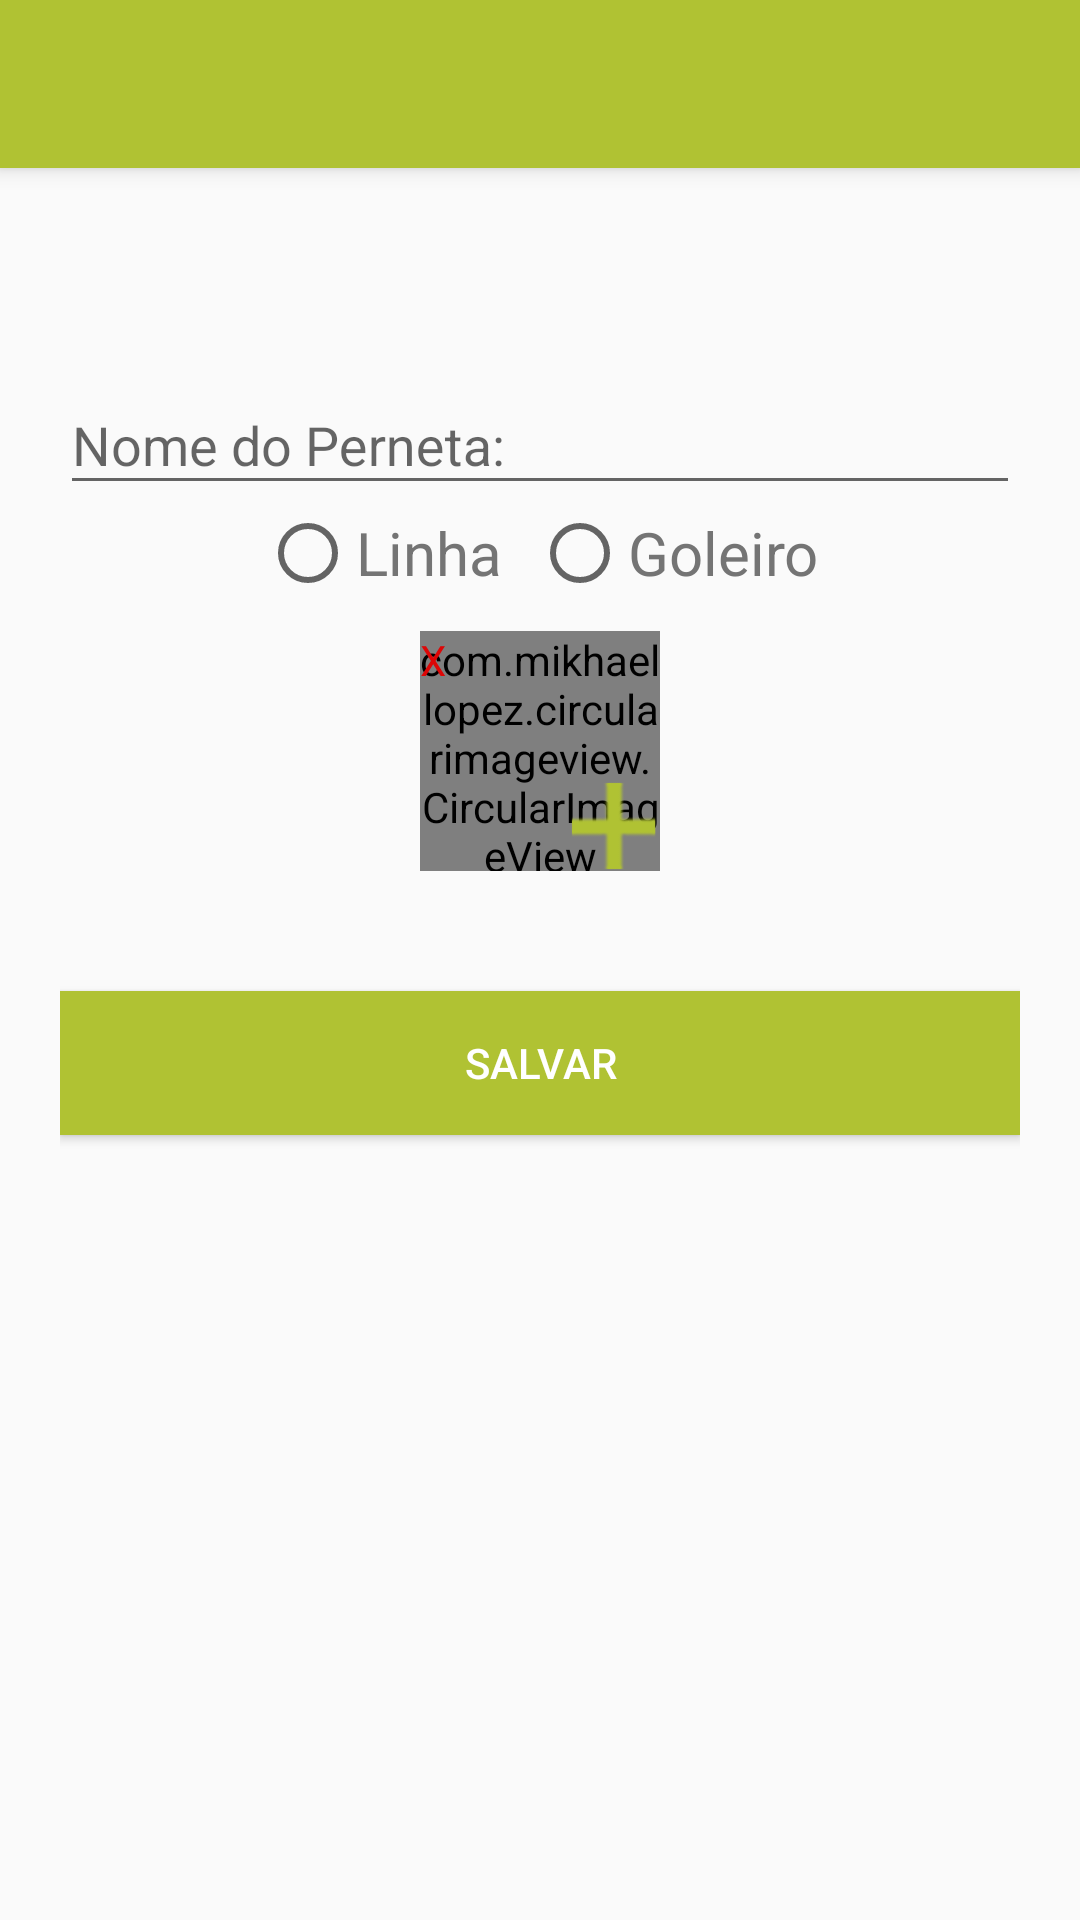

Icon click points for this 1080w x 1920h phone screenshot, format (x=x, y=y):
mais: (x=615, y=826)
